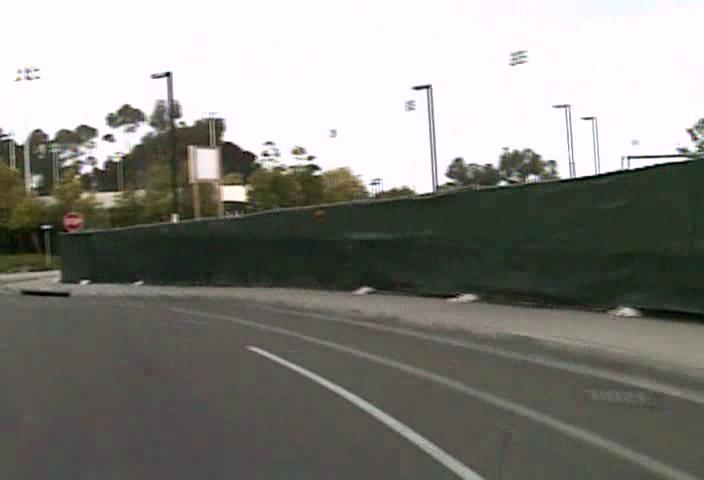stop: (63, 210, 84, 232)
